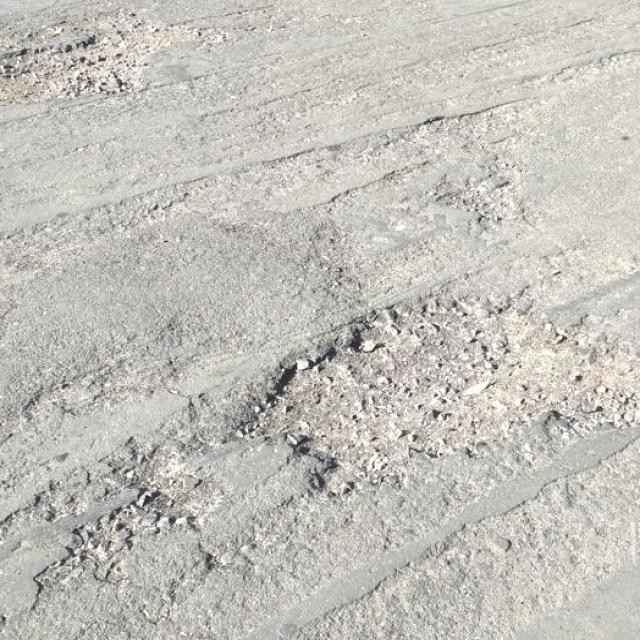road-pothole: (232, 278, 639, 501)
